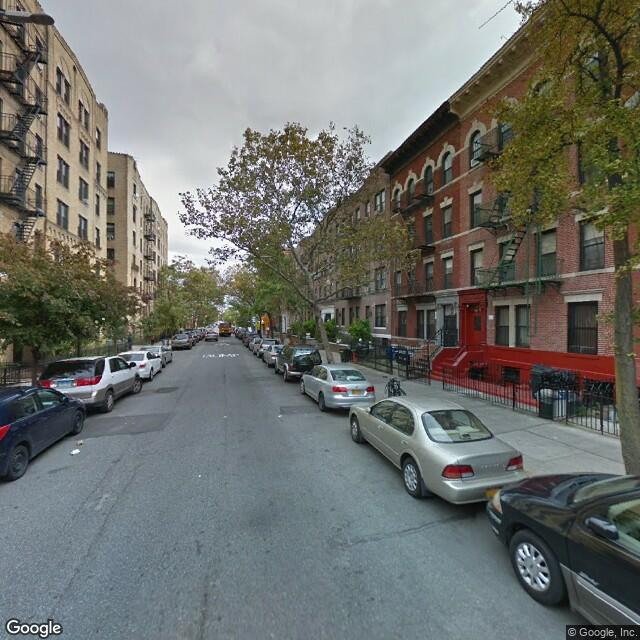litter: (71, 450, 81, 454), (199, 475, 204, 479), (277, 414, 281, 418), (225, 415, 229, 417), (79, 442, 81, 443)
